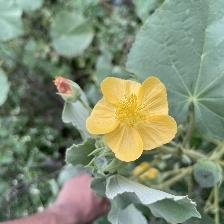indian mallow: (86, 75, 183, 164)
